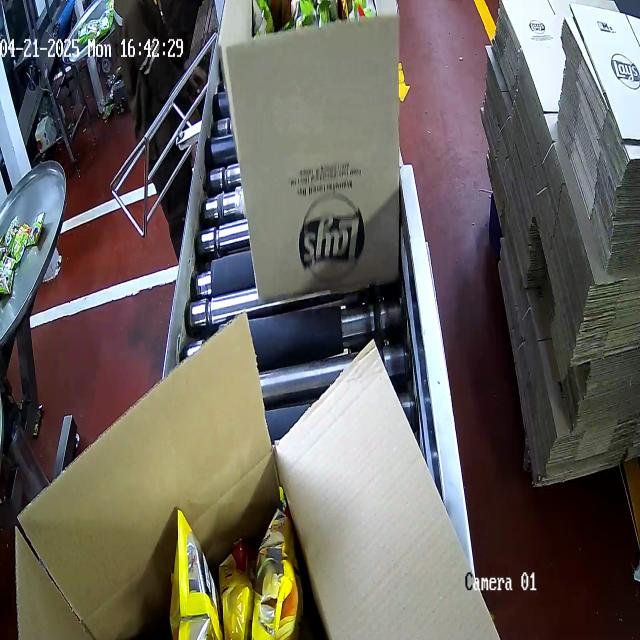SALTED: (163, 493, 297, 640)
